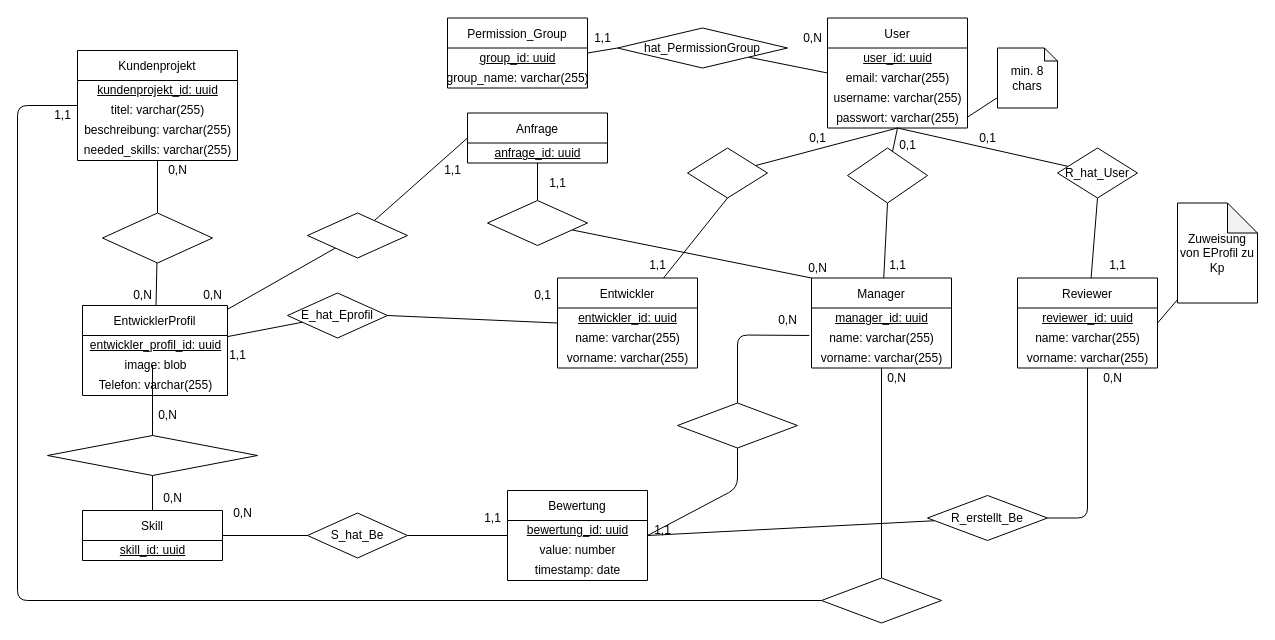
Some shapes in this 1275 by 640 pixel diagram are drawn without their labels. Here are the shapes that lost their labels. From the top down, the centre of each, then its label:
[727,172]: E_hat_User
[887,175]: M_hat_User
[157,237]: EProfil_ist_in_Kp
[357,235]: A_an_EntProfil
[537,223]: Ma_erstellt_A
[737,425]: M_erstellt_Be
[152,455]: EntwicklerProfil_hat_Skills
[881,600]: M_erstellt_Kp
